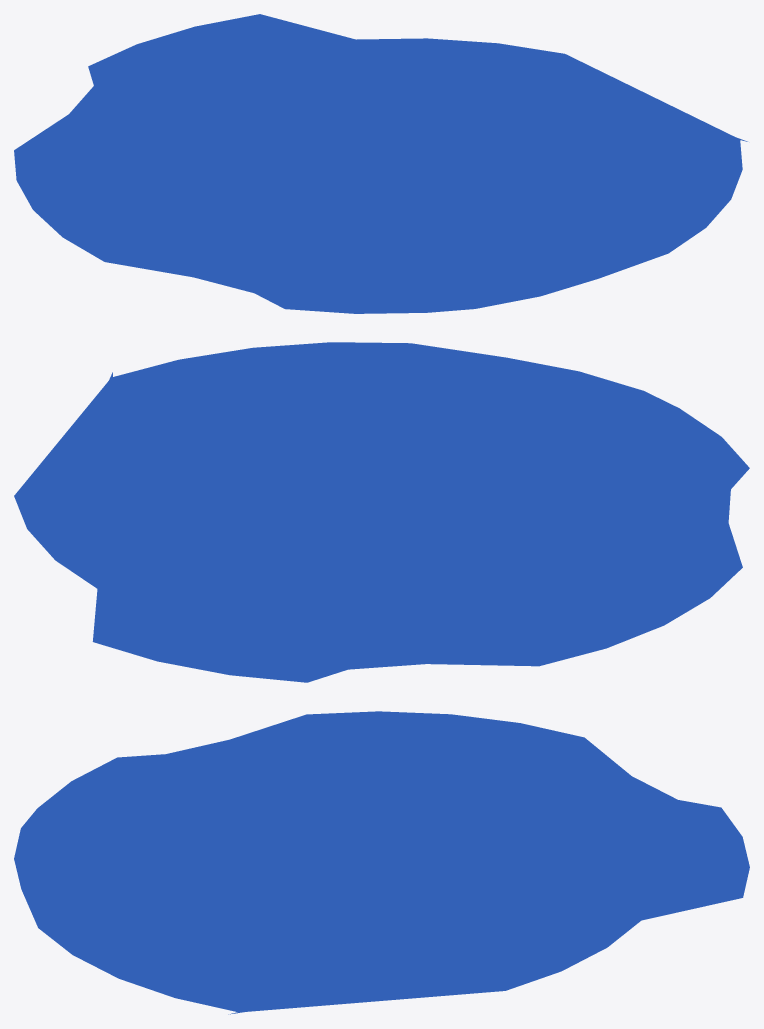
Rendered from Puddle.fbx.
3 renders of one model, top to bottom at view 1: azimuth 30°, elevation 25°; view 2: azimuth 150°, elevation 25°; view 3: azimuth 270°, elevation 25°, orthographic. The views are drawn at different scales.
Parts seen in each view (by area): view 1: node_id4; view 2: node_id4; view 3: node_id4.
Part boxes in pixels (x1,y1,x2,y2): node_id4: [14, 14, 747, 313]; node_id4: [14, 342, 749, 682]; node_id4: [14, 711, 749, 1014].
Bounding box in the file's own units: 2.01 × 3.21e-06 × 2.06.
